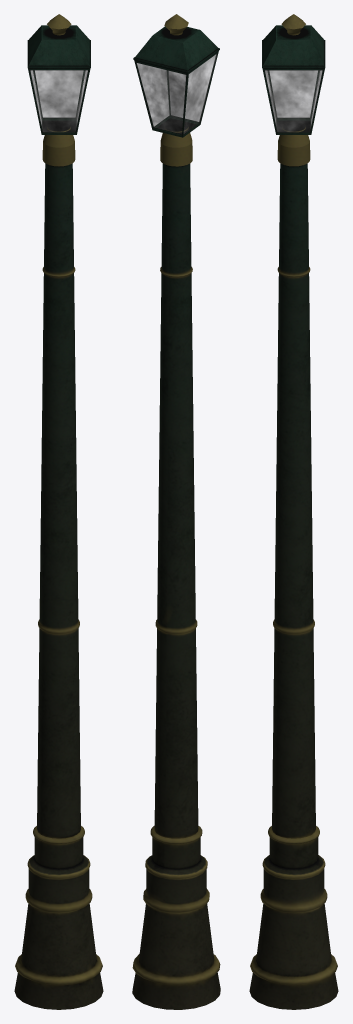
Rendered from light.glb.
The picture shows the model from 3 angles, left to right: view 1: azimuth 90°, elevation 25°; view 2: azimuth 150°, elevation 25°; view 3: azimuth 270°, elevation 25°; orthographic projection.
Visible parts, largest first — view 1: lamp_post; view 2: lamp_post; view 3: lamp_post.
Boxes of the visible parts, x1=… form: lamp_post: x1=14, y1=14, x2=103, y2=1009; lamp_post: x1=132, y1=14, x2=220, y2=1009; lamp_post: x1=249, y1=14, x2=338, y2=1009.
Bounding box in the file's own units: 43.19 × 523 × 43.19.
Materials: 1 (1 with a texture image).
